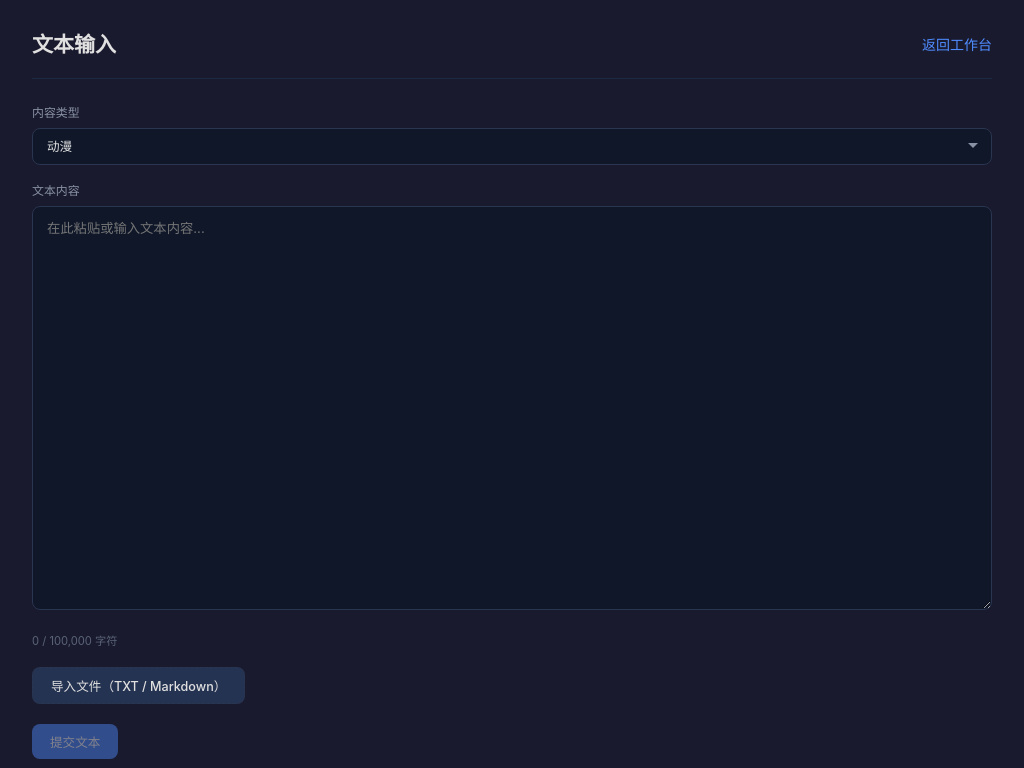
Test: TextInputPage › 后端返回 invalid 时显示校验失败信息
// 输入足够长的文本通过前端校验，但后端返回 invalid
Type "这是一段足够长的测试文本内容用于提交" into the text box labelled "文本内容" at (512, 408), box [32,206,992,610]
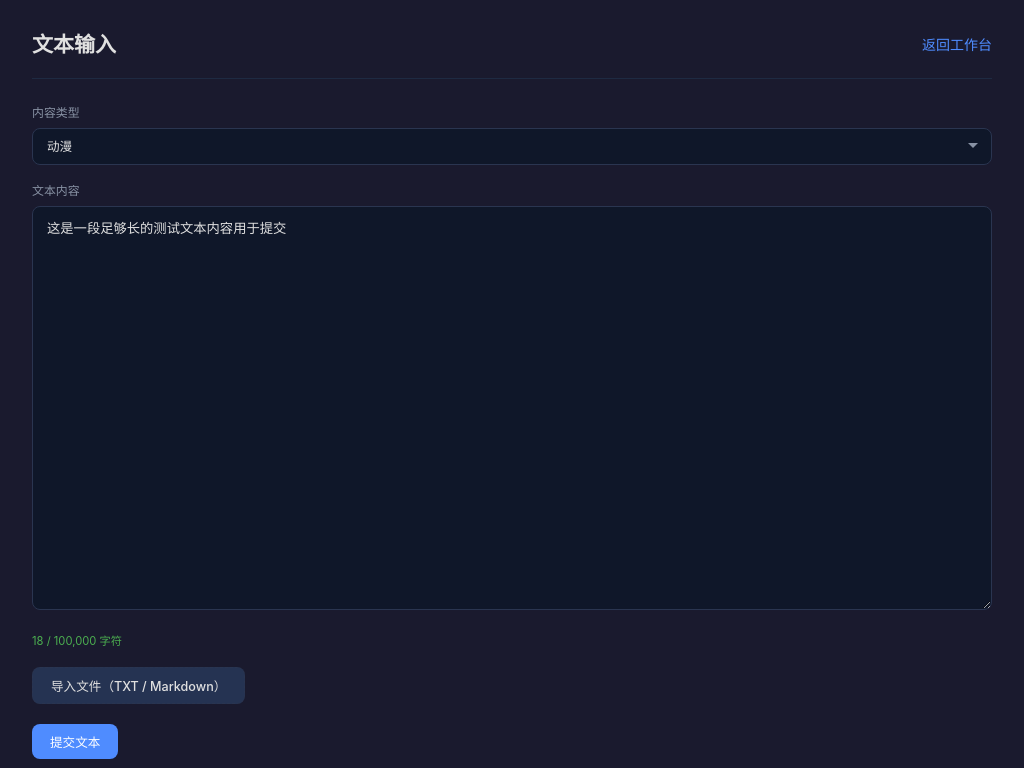
Click the button labelled "提交文本" at (75, 741), box [32,724,118,759]
(page scrolled)
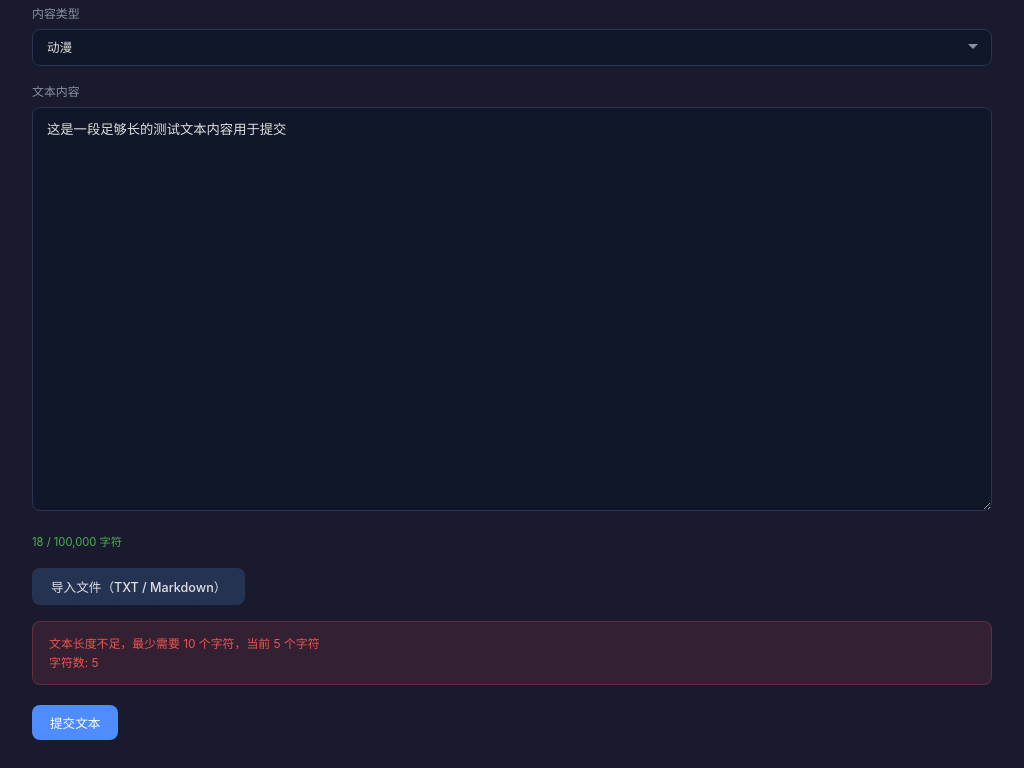
Now the message with test id "submit-result" shows "文本长度不足", box [49,636,320,651]
